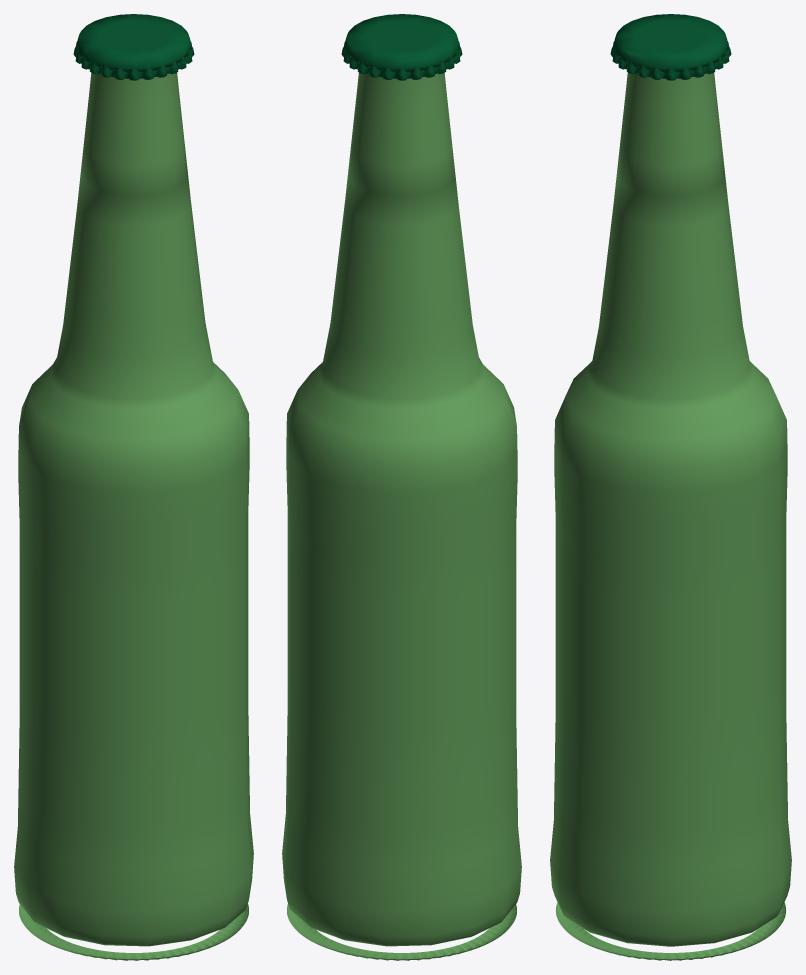
File: bottle.glb
3 renders of one model, left to right at view 1: azimuth 30°, elevation 25°; view 2: azimuth 150°, elevation 25°; view 3: azimuth 270°, elevation 25°, orthographic.
Parts seen in each view (by area): view 1: GARRAFA; view 2: GARRAFA; view 3: GARRAFA.
Part boxes in pixels (x1=…): GARRAFA: x1=14, y1=14, x2=253, y2=960; GARRAFA: x1=282, y1=14, x2=521, y2=960; GARRAFA: x1=550, y1=14, x2=791, y2=960.
Size of the model in its own units: 0.0622 by 0.25 by 0.0622.
